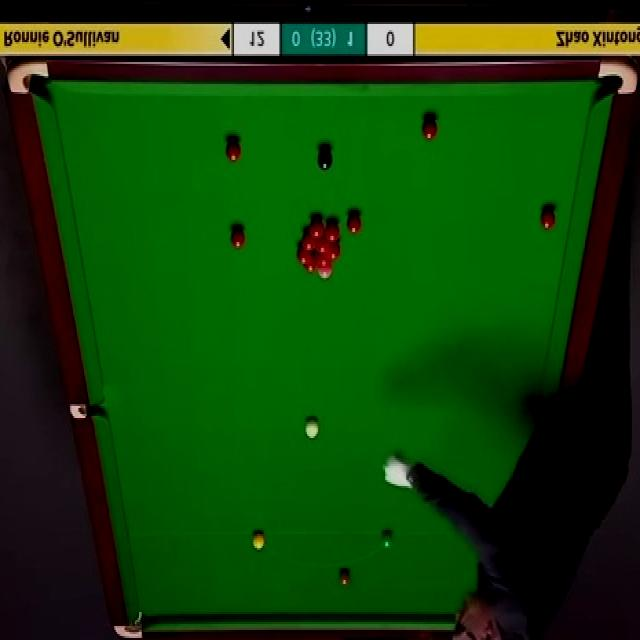pocket: (7, 58, 50, 97), (597, 57, 637, 98), (111, 606, 145, 640), (68, 404, 104, 418)
